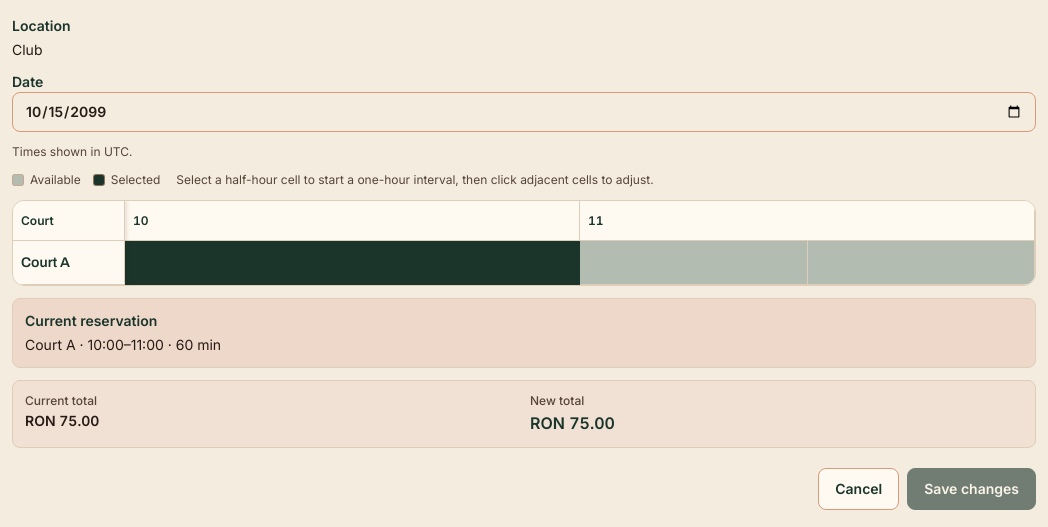
Test case: requires a current quote for admin rescheduling and disables a reverted interval
The width and height of the screenshot is (1048, 527).
Check: the text "Current reservation" is shown, box [25,312,157,329]
Check: the button "Save changes" is disabled, box [907,468,1036,510]
Click the button named "Court A 2099-10-15 11:00–11:30": (694, 262) [580,241,808,284]
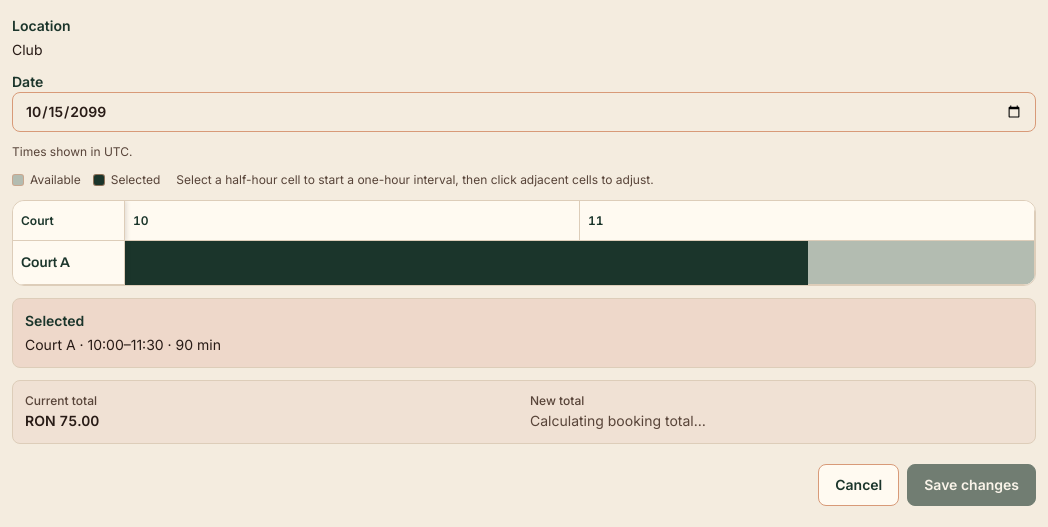
Check: the button "Save changes" is disabled, box [907,464,1036,506]
Submit the form named "Save changes"
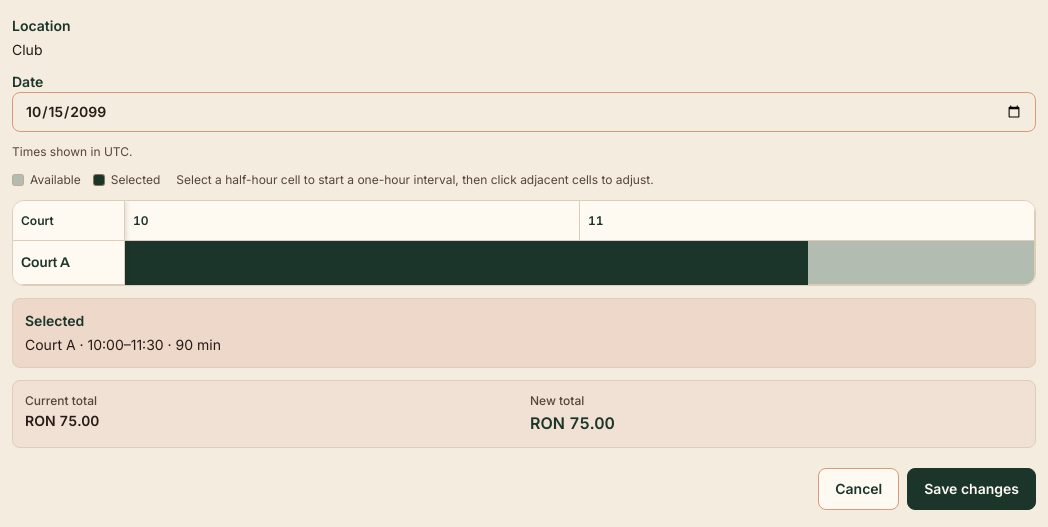
Check: the button "Save changes" is enabled, box [907,468,1036,510]
Click the button named "Court A 2099-10-15 11:00–11:30": (694, 262) [580,241,808,284]
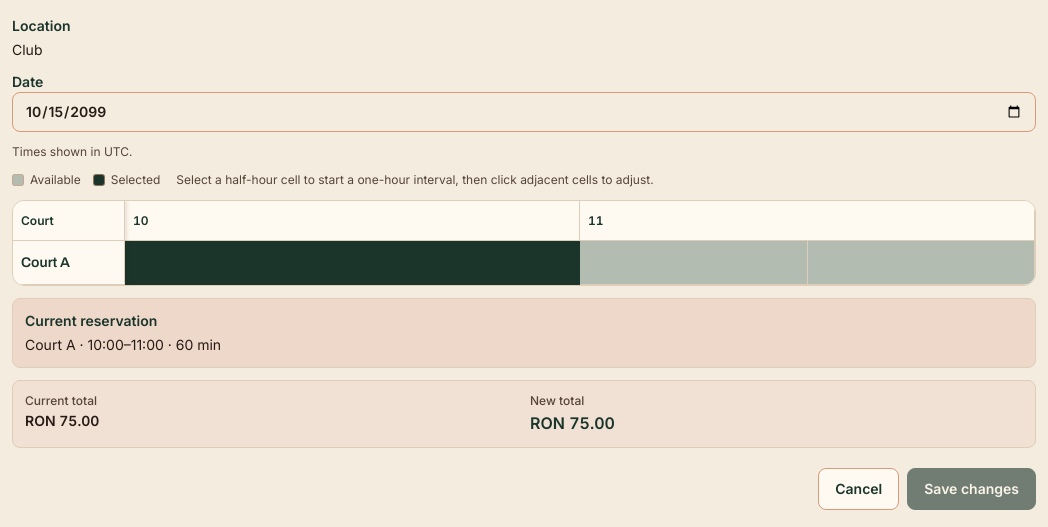
Check: the text "Current reservation" is shown, box [25,312,157,329]
Check: the button "Save changes" is disabled, box [907,468,1036,510]
